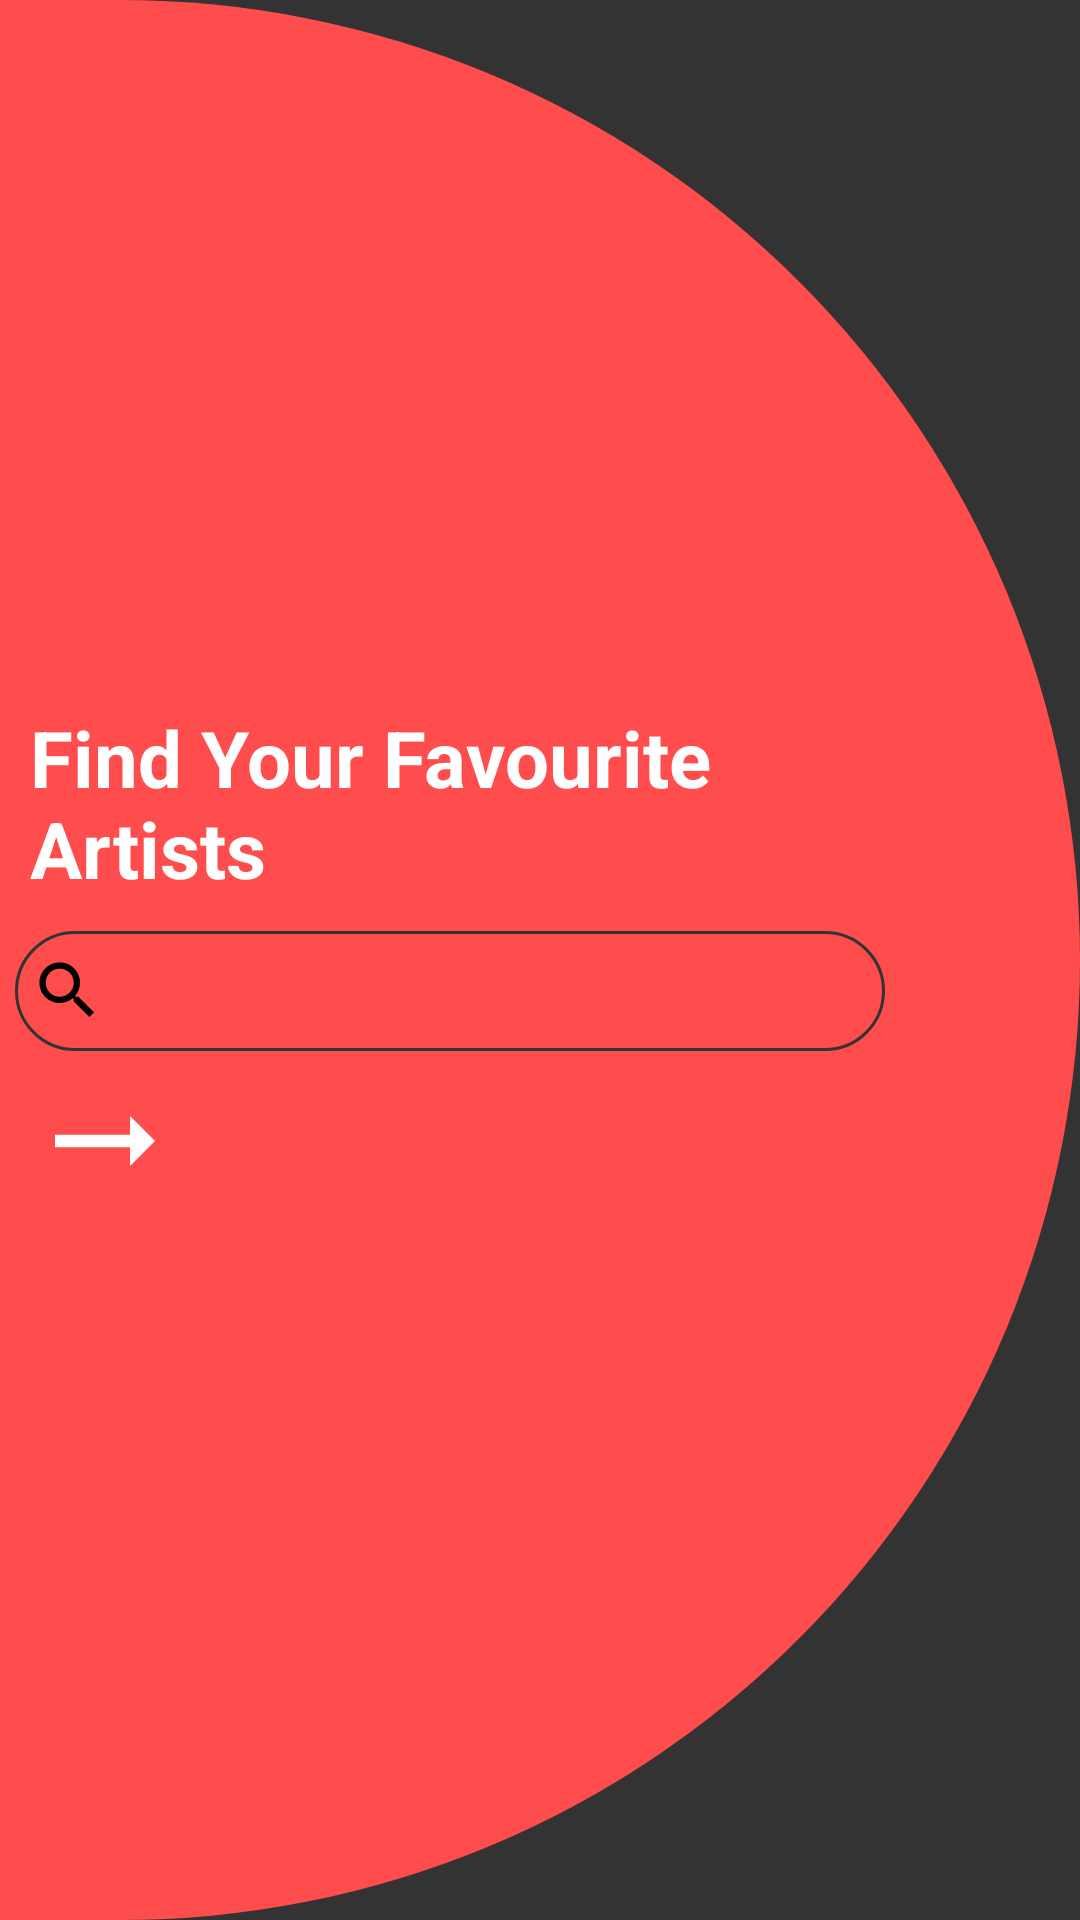

Locate icon controls on the screen. Image size 1080px×1920px, boxes as [x1=x1, y1=y1, x2=x2, y2=y2].
search arrow: [x1=55, y1=1116, x2=155, y2=1166]
